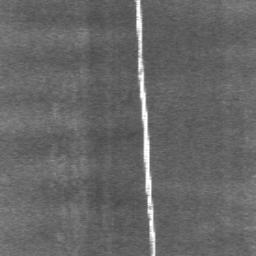Bright scratch: (136, 0, 155, 256)
